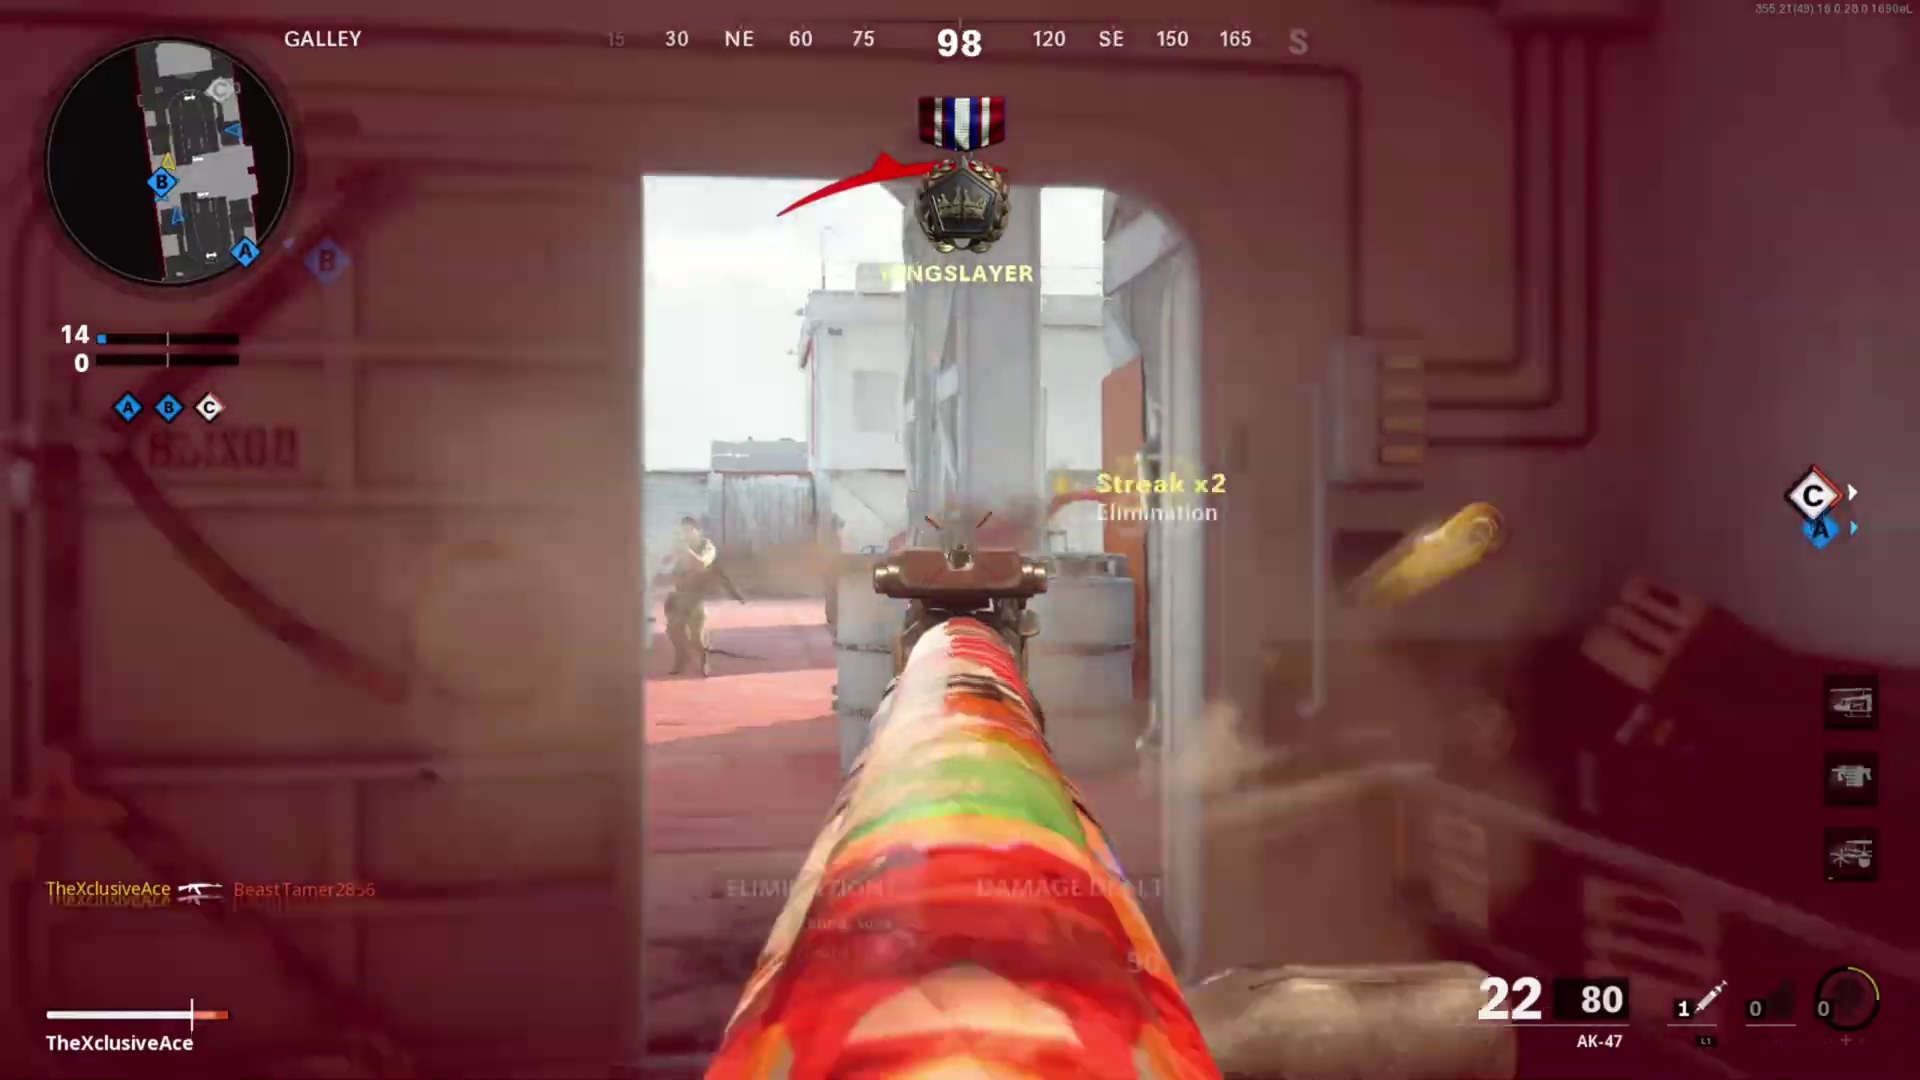head: (672, 509, 707, 554)
person: (650, 518, 738, 679)
